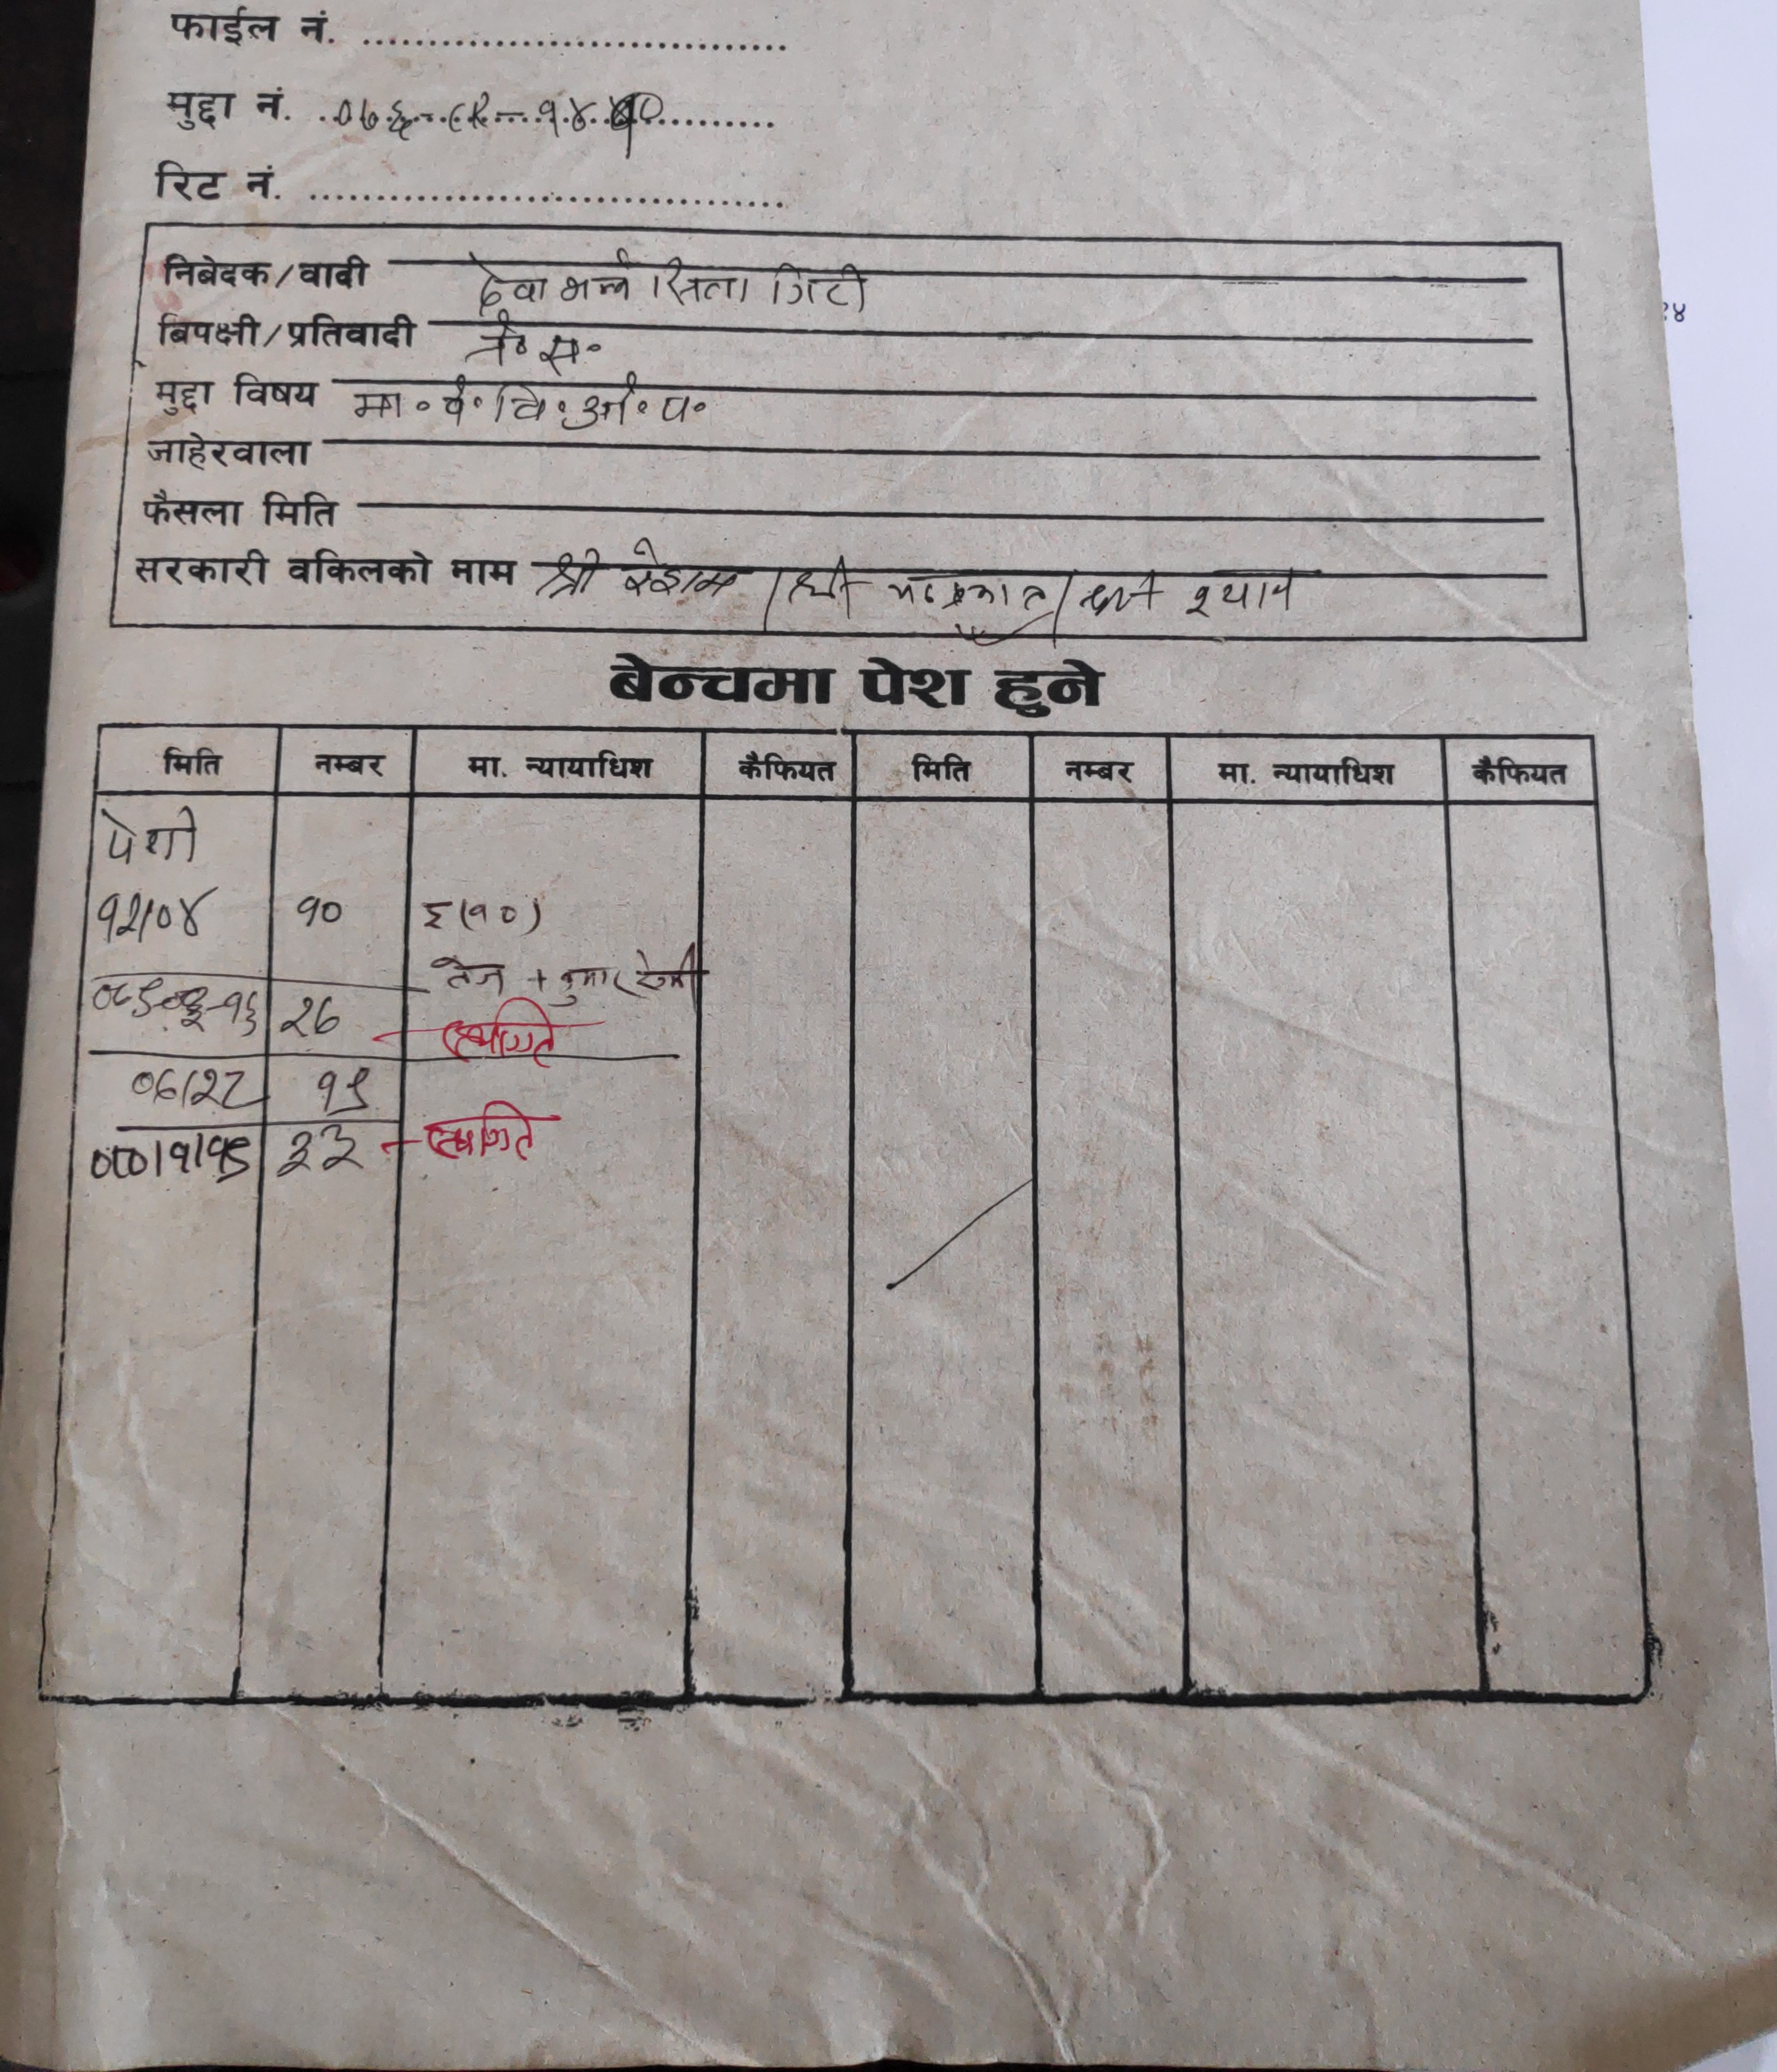text: (345, 386, 715, 437), (467, 315, 606, 379), (623, 541, 750, 597), (766, 259, 874, 315), (463, 255, 553, 312), (657, 254, 750, 303), (539, 546, 604, 608), (558, 263, 643, 308)
